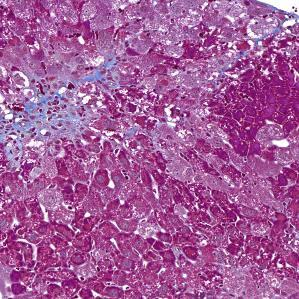fibrosis: (2, 64, 113, 157)
